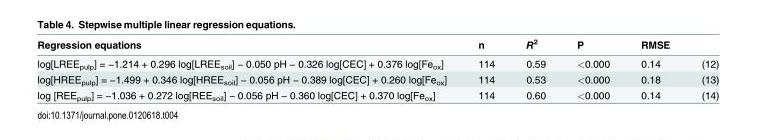table: (36, 36, 718, 101)
table column: (36, 36, 461, 101), (560, 36, 624, 101), (624, 36, 684, 101), (509, 36, 560, 101), (461, 36, 509, 101), (684, 36, 718, 101)
table column header: (36, 36, 718, 53)
table row: (36, 53, 718, 71), (36, 36, 718, 53), (36, 71, 718, 87), (36, 87, 718, 101)
